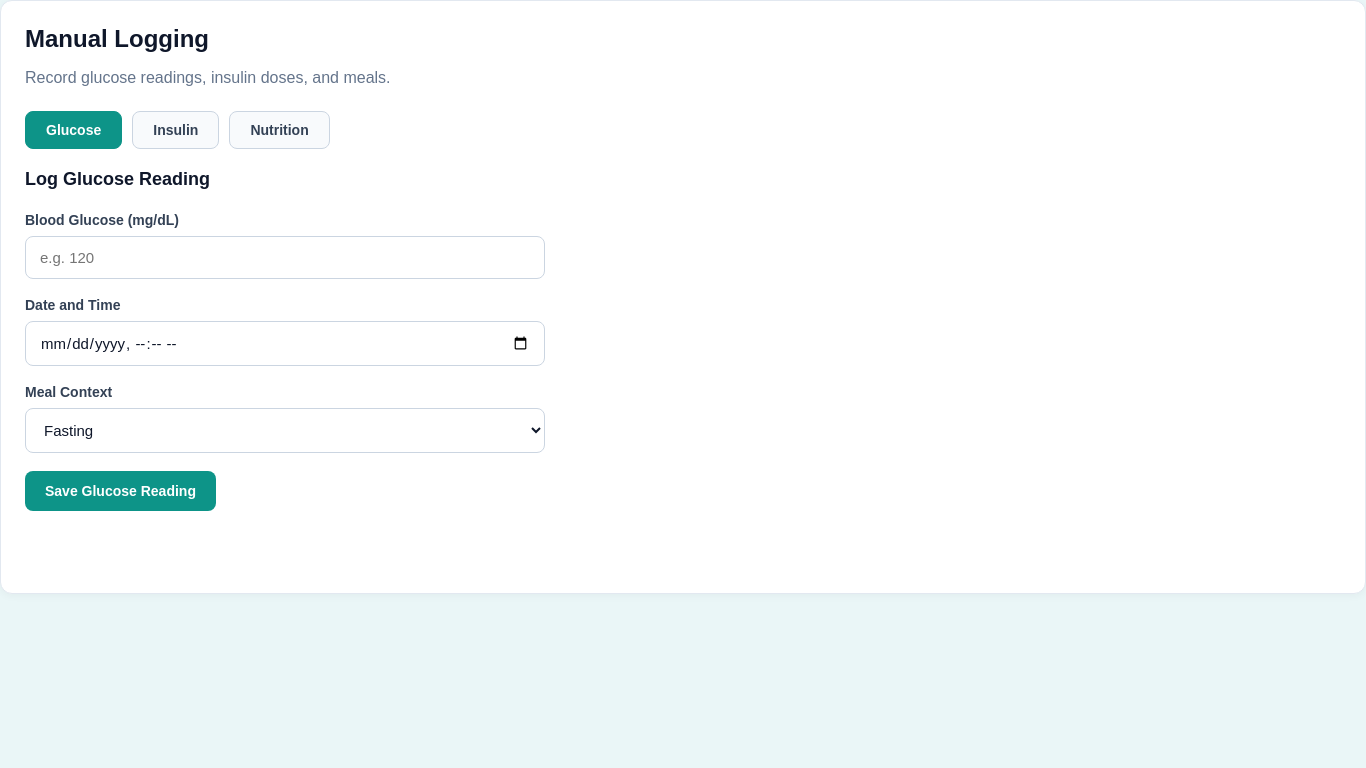
Test case: ManualLogging › switches to the insulin form
Click the button "Insulin".
click(176, 130)  # box [132,111,219,149]
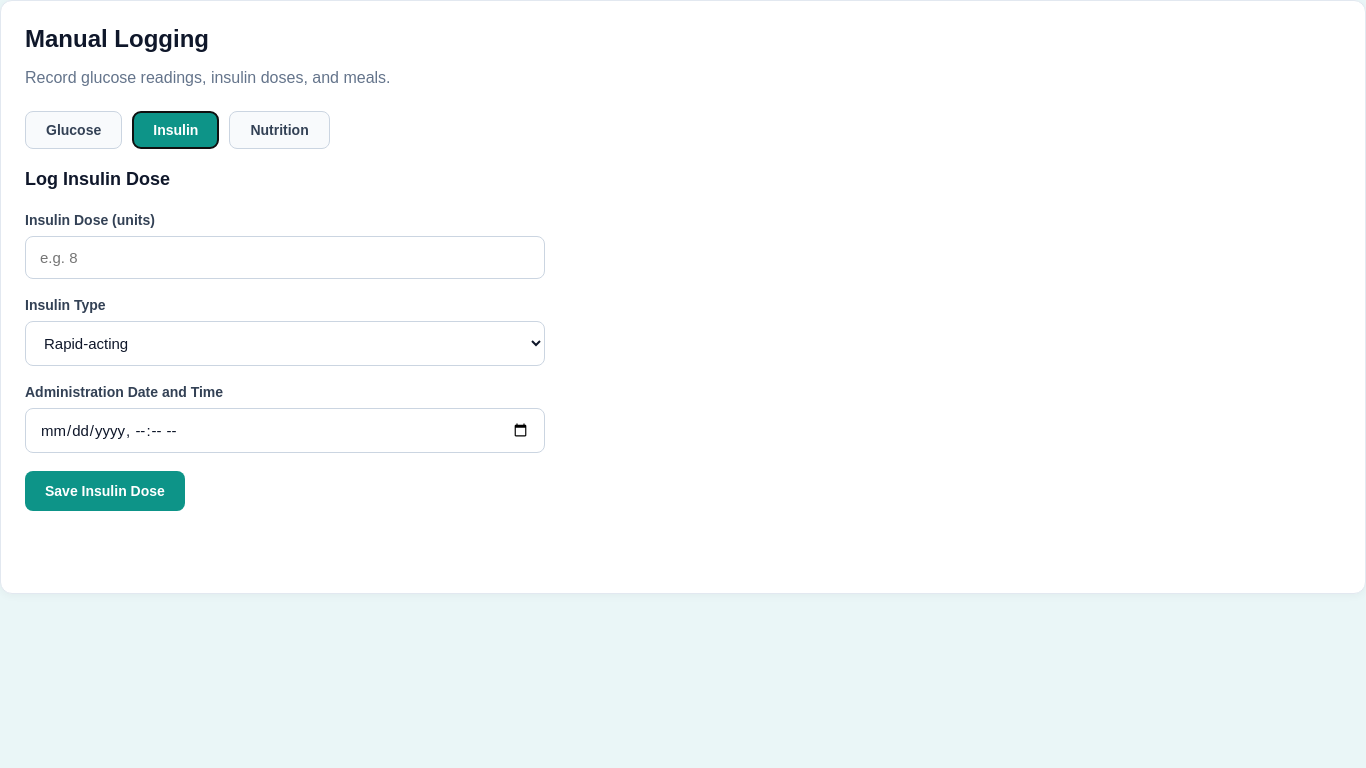
Check: the heading "Log Insulin Dose" is shown, box [25,169,170,189]
Check: the number field labelled "Insulin Dose (units)" is shown, box [25,236,545,279]
